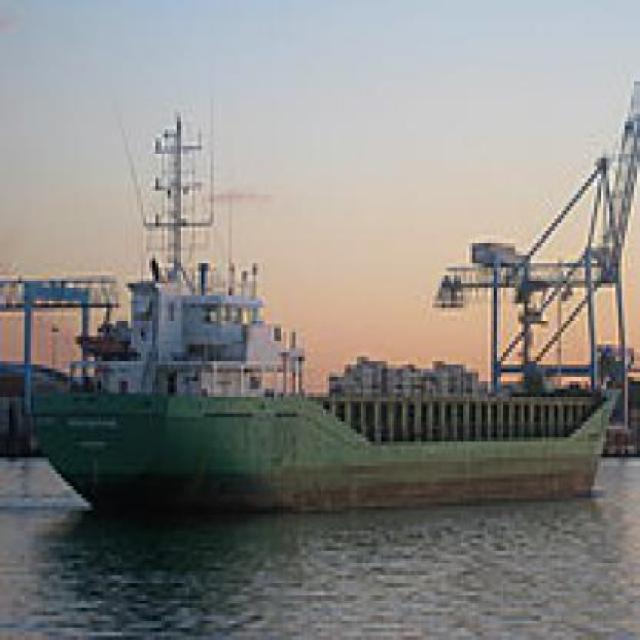container: (13, 94, 629, 528)
